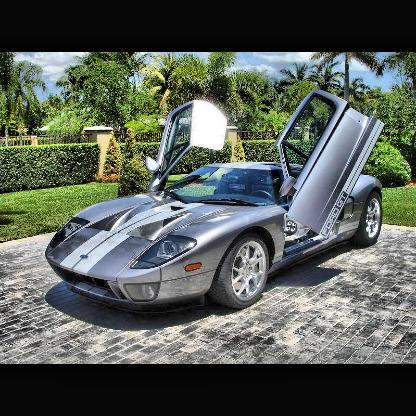Ford GT Coupe 2006: (46, 90, 384, 313)
